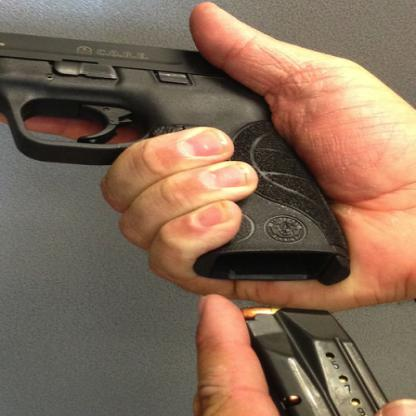gun: (0, 15, 353, 286)
